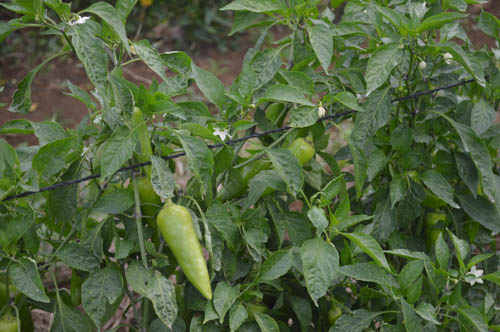ChiliPepper: (155, 204, 217, 302), (255, 137, 321, 200)
